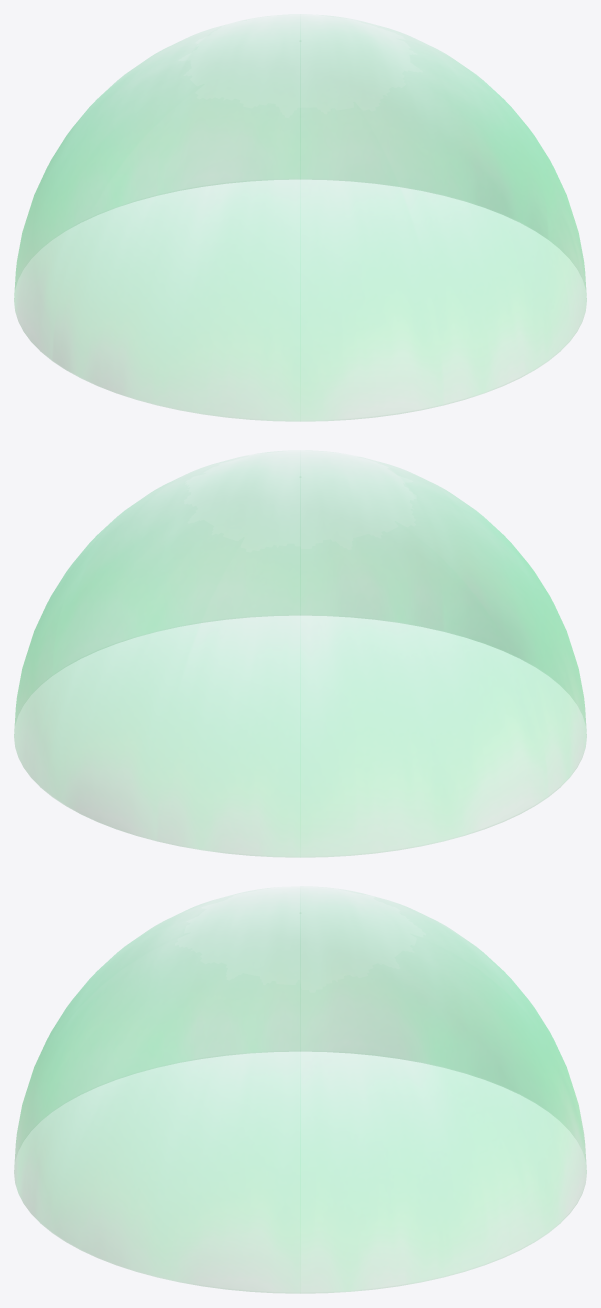
Rendered from shock_dome_emerald.glb.
3 views of the same model, one above another, from view 1: azimuth 30°, elevation 25°; view 2: azimuth 150°, elevation 25°; view 3: azimuth 270°, elevation 25° (orthographic).
Parts seen in each view (by area): view 1: dome; view 2: dome; view 3: dome.
Part boxes in pixels (<box>): dome: <box>14,26,586,421</box>; dome: <box>14,466,586,857</box>; dome: <box>14,899,586,1293</box>.
Bounding box in the file's own units: 2 × 1 × 2.
Materials: 1 (1 with a texture image).
